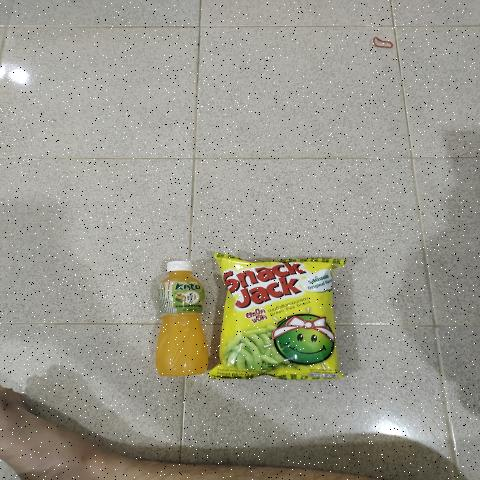snack_jack: (230, 270, 324, 370)
